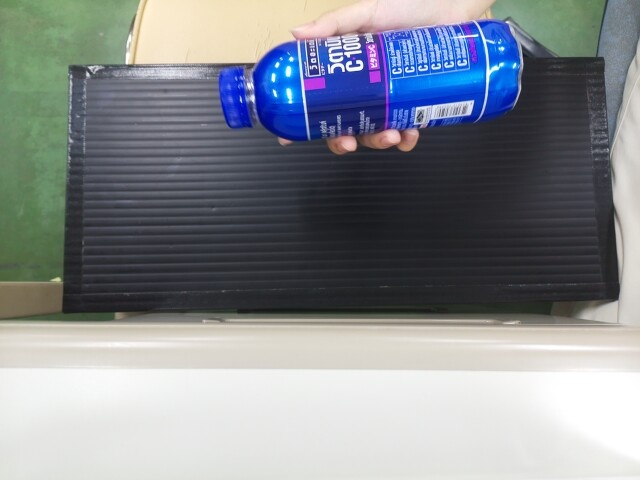plastic_bottle: (219, 44, 521, 123)
